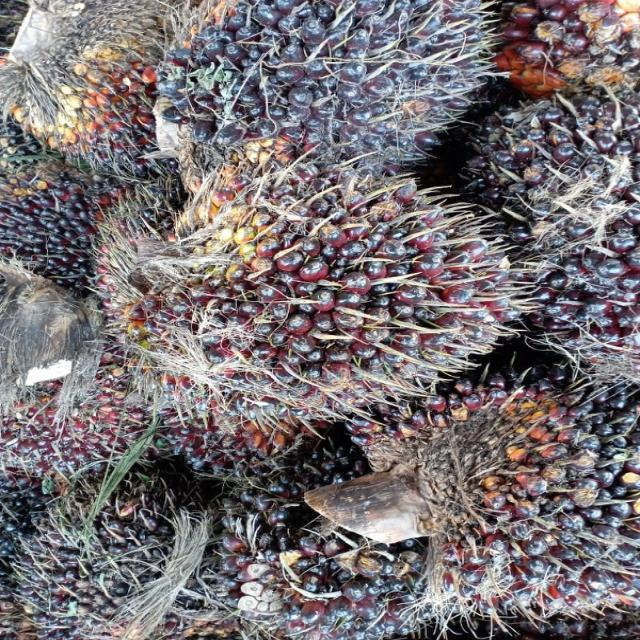fraksi 00: (385, 373, 640, 615), (165, 0, 488, 185), (485, 95, 640, 375), (0, 500, 224, 639), (0, 182, 108, 292)
fraksi 1: (111, 155, 524, 425)
